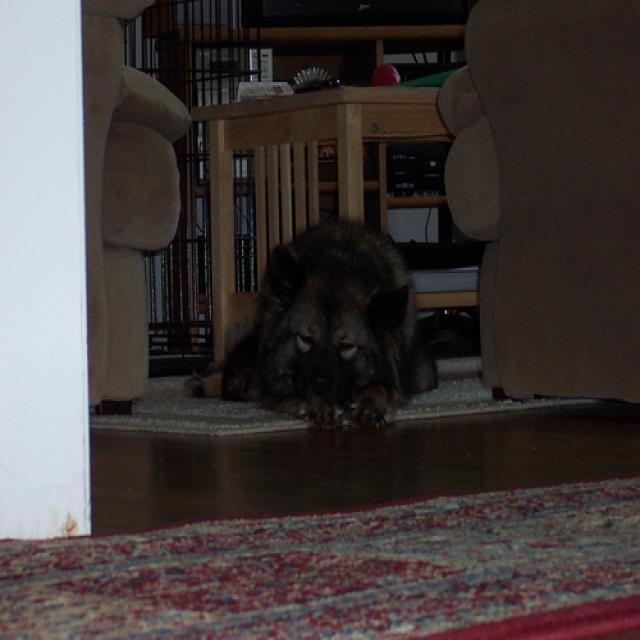Table: (196, 56, 483, 344)
dog: (247, 198, 461, 454)
